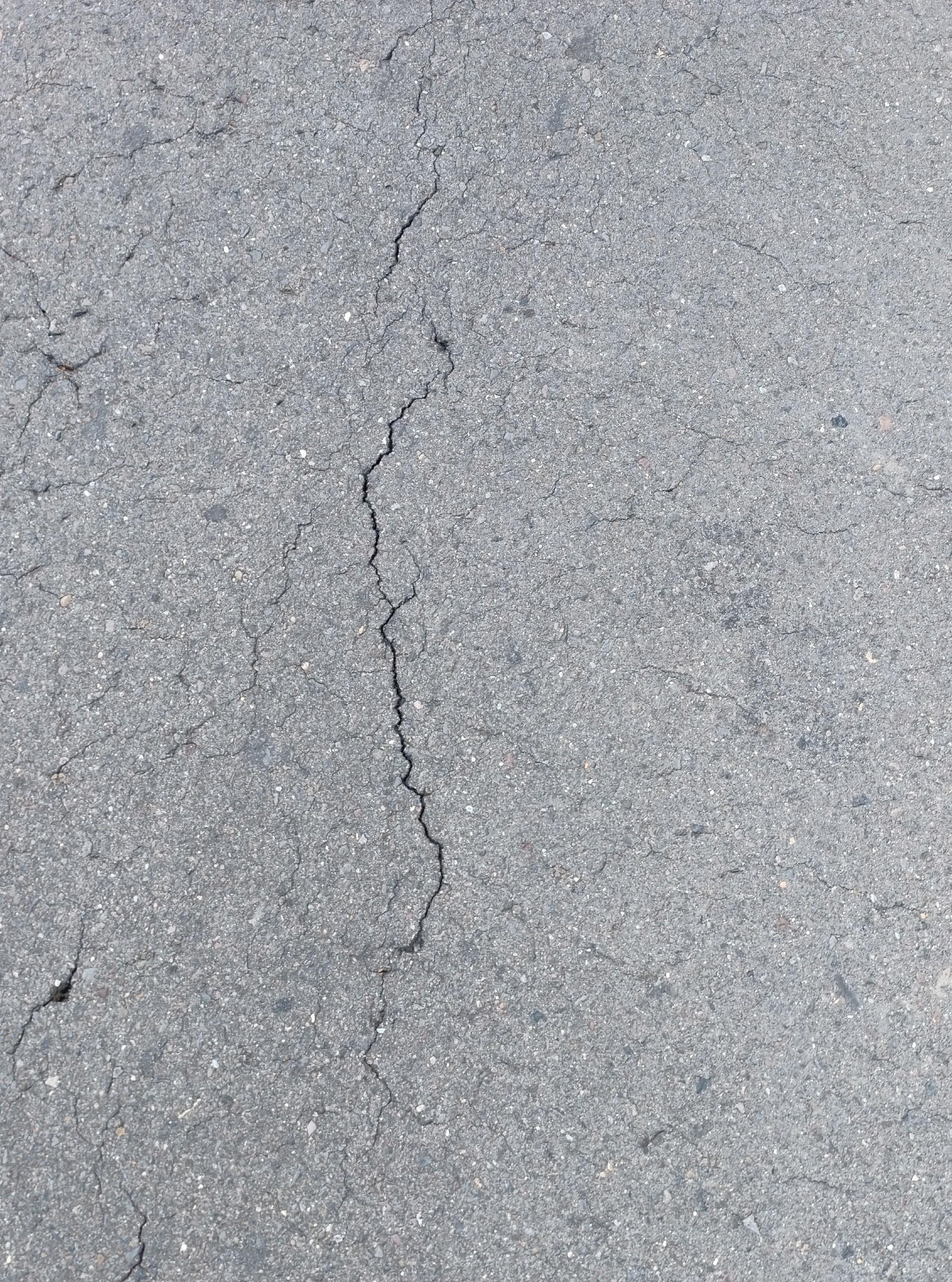GRIETA: (362, 400, 445, 955), (11, 916, 86, 1055), (362, 968, 393, 1140), (385, 177, 439, 275), (121, 1202, 148, 1282)
PIEL DE COCODRILO: (373, 0, 870, 313), (491, 340, 849, 668), (0, 72, 251, 512), (81, 563, 368, 791), (9, 1044, 137, 1204), (323, 283, 462, 408)
